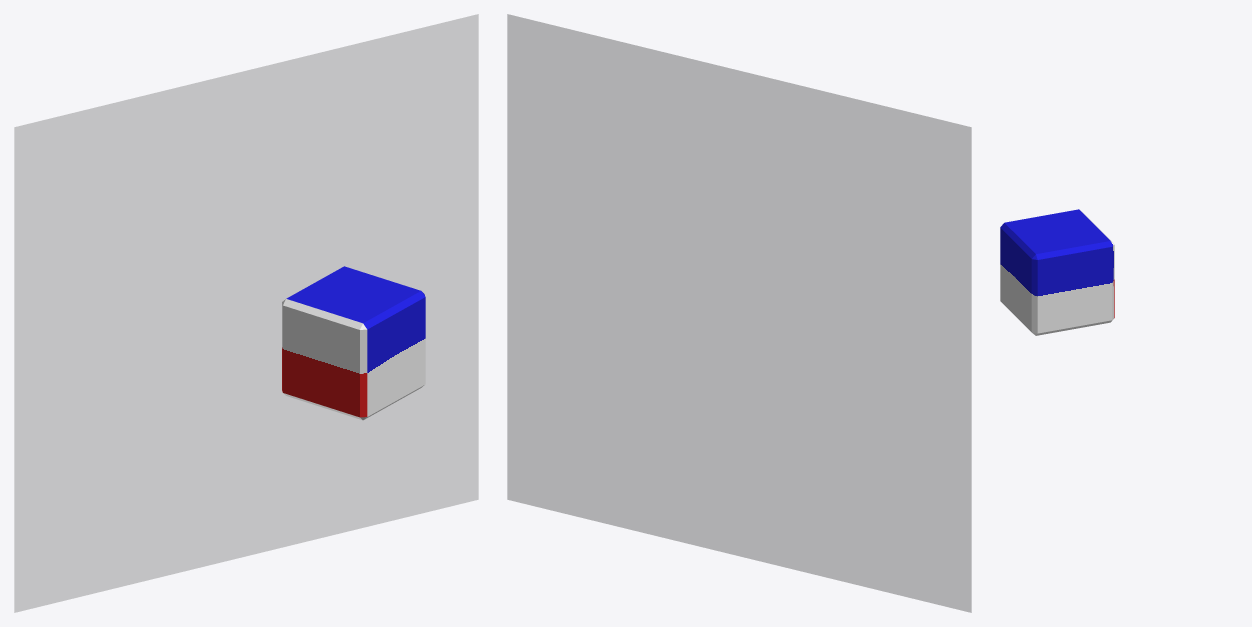
The model's file is product_stage.out_stage.glb.
3 views of the same model, side by side, from view 1: azimuth 30°, elevation 25°; view 2: azimuth 150°, elevation 25°; view 3: azimuth 270°, elevation 25° (orthographic). The views are drawn at different scales.
Visible parts, largest first — view 1: Backdrop, Product; view 2: Backdrop; view 3: Product.
Boxes of the visible parts, x1,y1,x2,y2 form: Backdrop: [14, 14, 478, 612]; Product: [282, 266, 425, 420]; Backdrop: [507, 14, 971, 612]; Product: [1000, 209, 1114, 335].
Bounding box in the file's own units: 10 × 10 × 5.27.
Materials: 2 (1 with a texture image).
